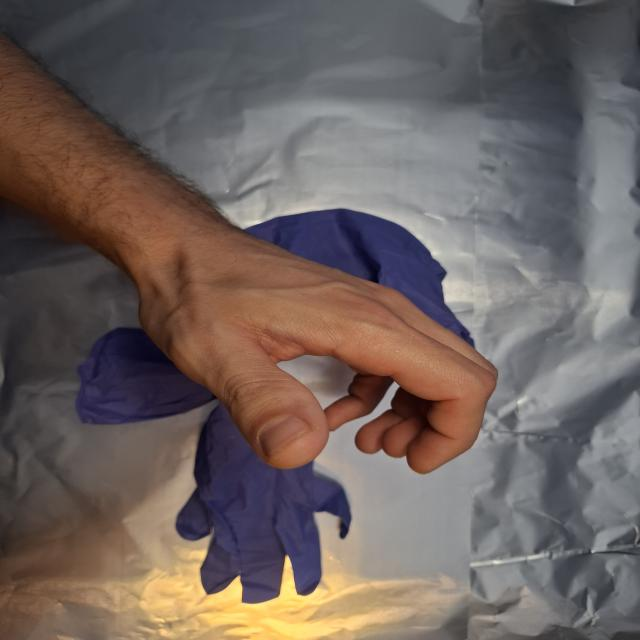glove_off: (131, 225, 501, 476)
